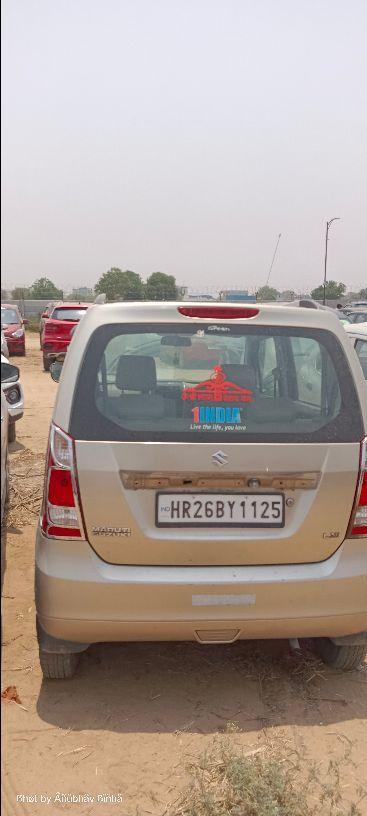license_plate: (154, 489, 285, 527)
